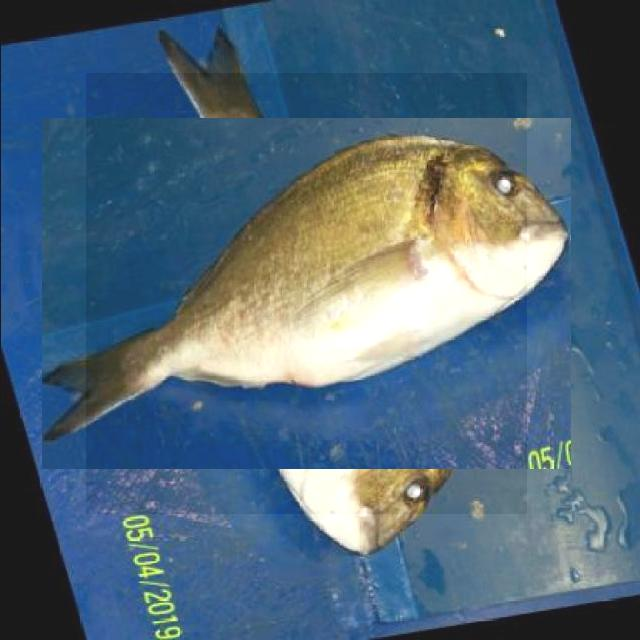Healthy Fish: (85, 73, 526, 514)
